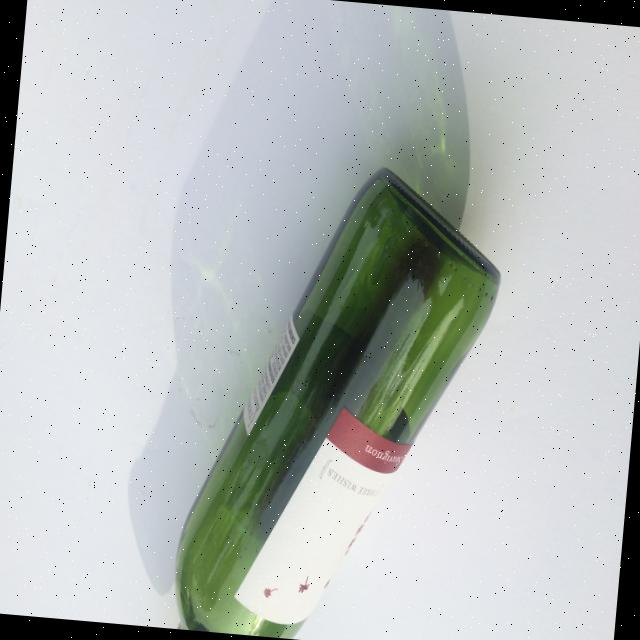glass: (168, 149, 509, 640)
